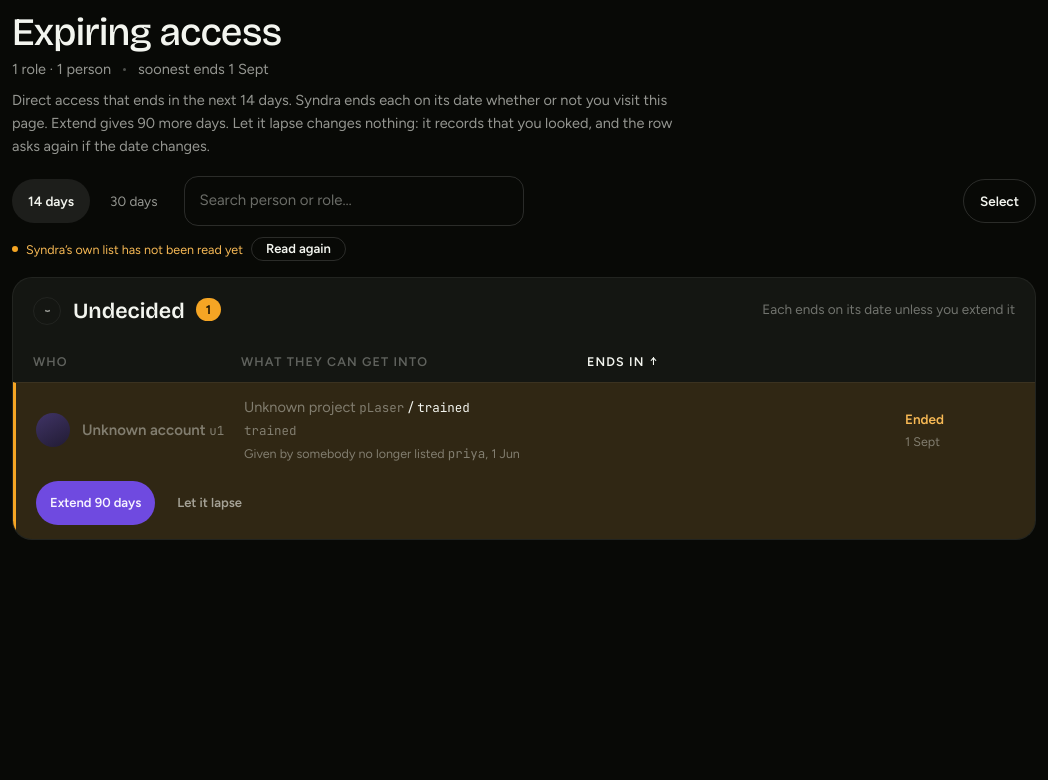
Test: extending a single row › says the extension is done once Zitadel has it
The image size is (1048, 780).
Step 1. Click the button "Extend 90 days" → point(96, 503), box [36,481,155,525]
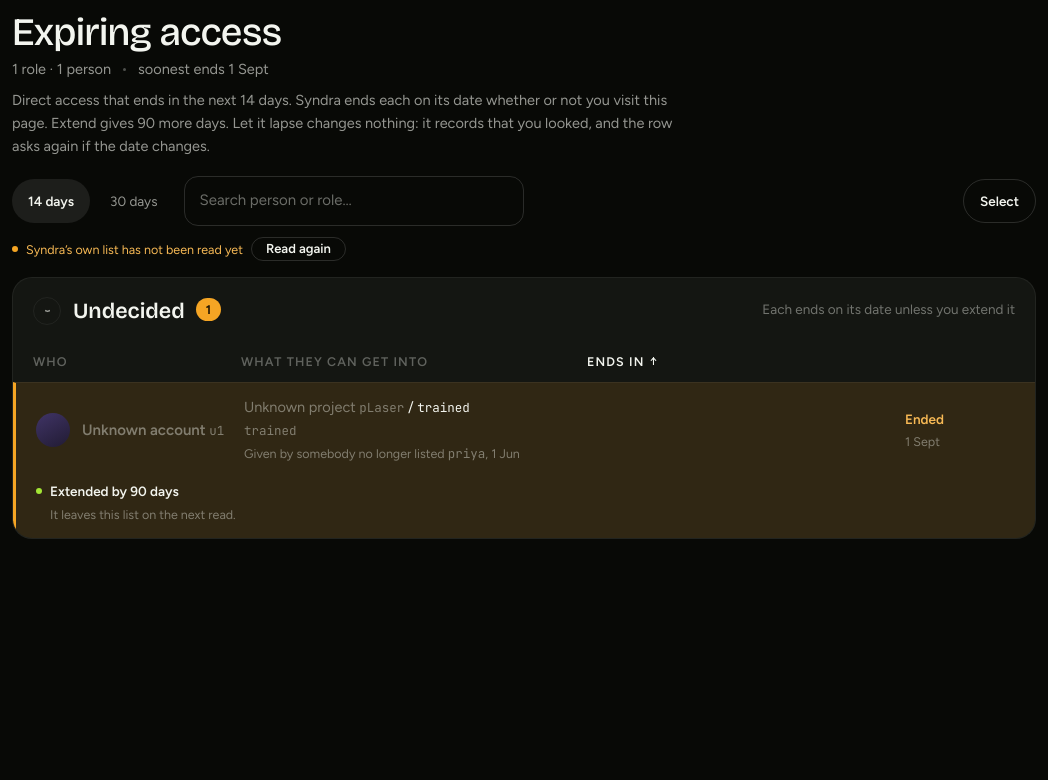
Expected: the text "Extended by 90 days" is shown, [36,483,179,499]
